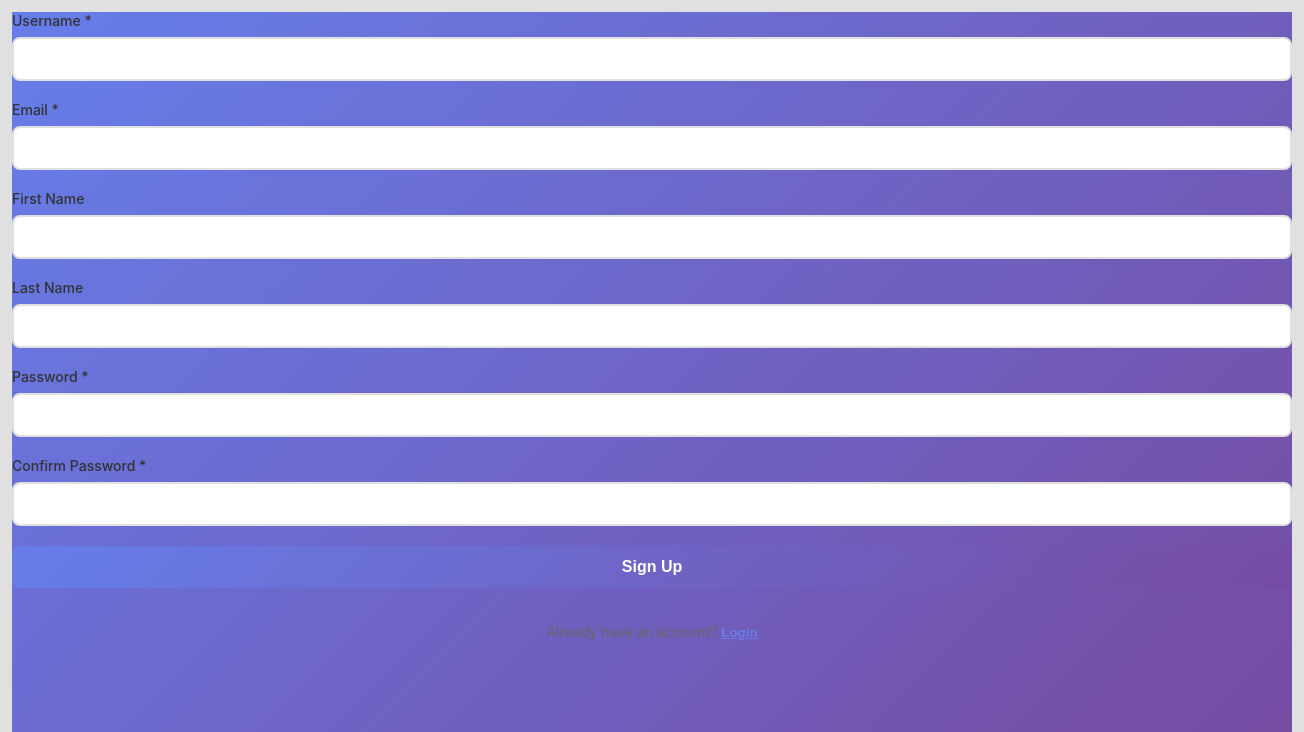
Test: Signup Component › shows loading state during registration
The width and height of the screenshot is (1304, 732).
Type "newuser" into the field labelled "Username *" at [652, 59], box [12, 37, 1292, 81]
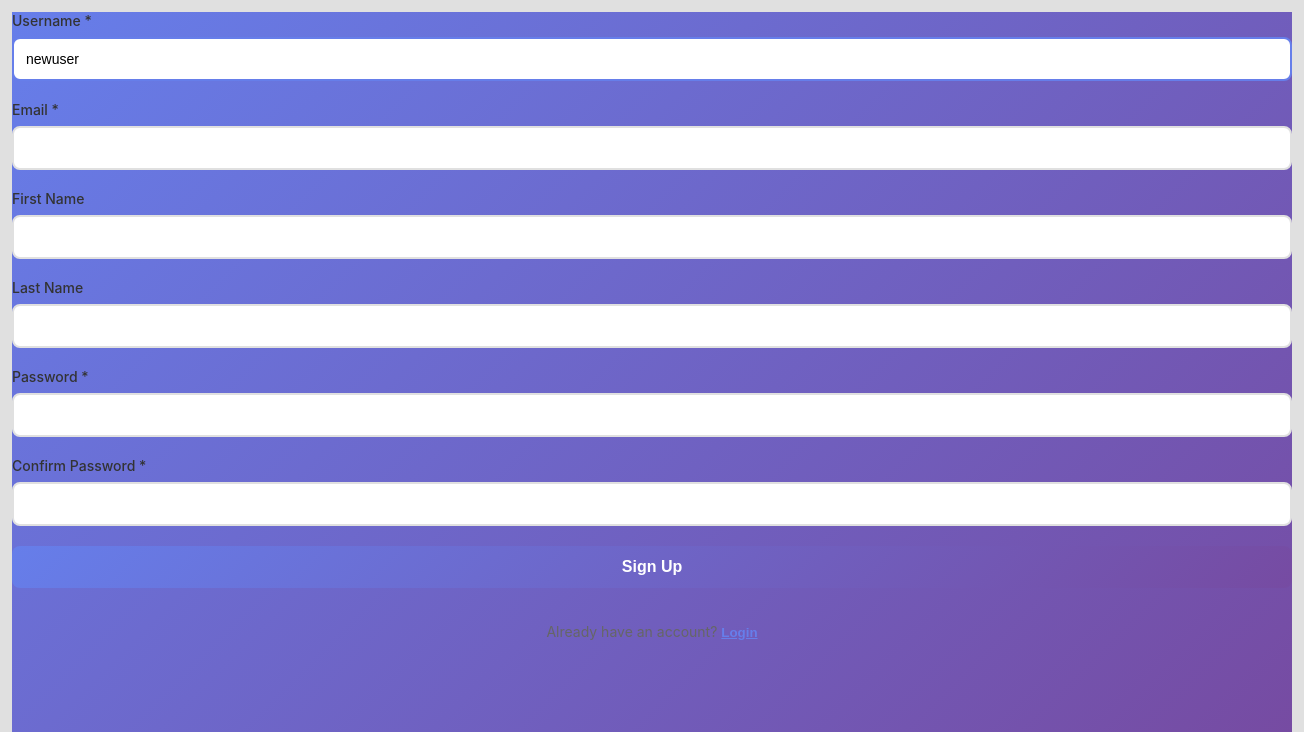
Type "newuser@example.com" into the field labelled "Email *" at [652, 148], box [12, 126, 1292, 170]
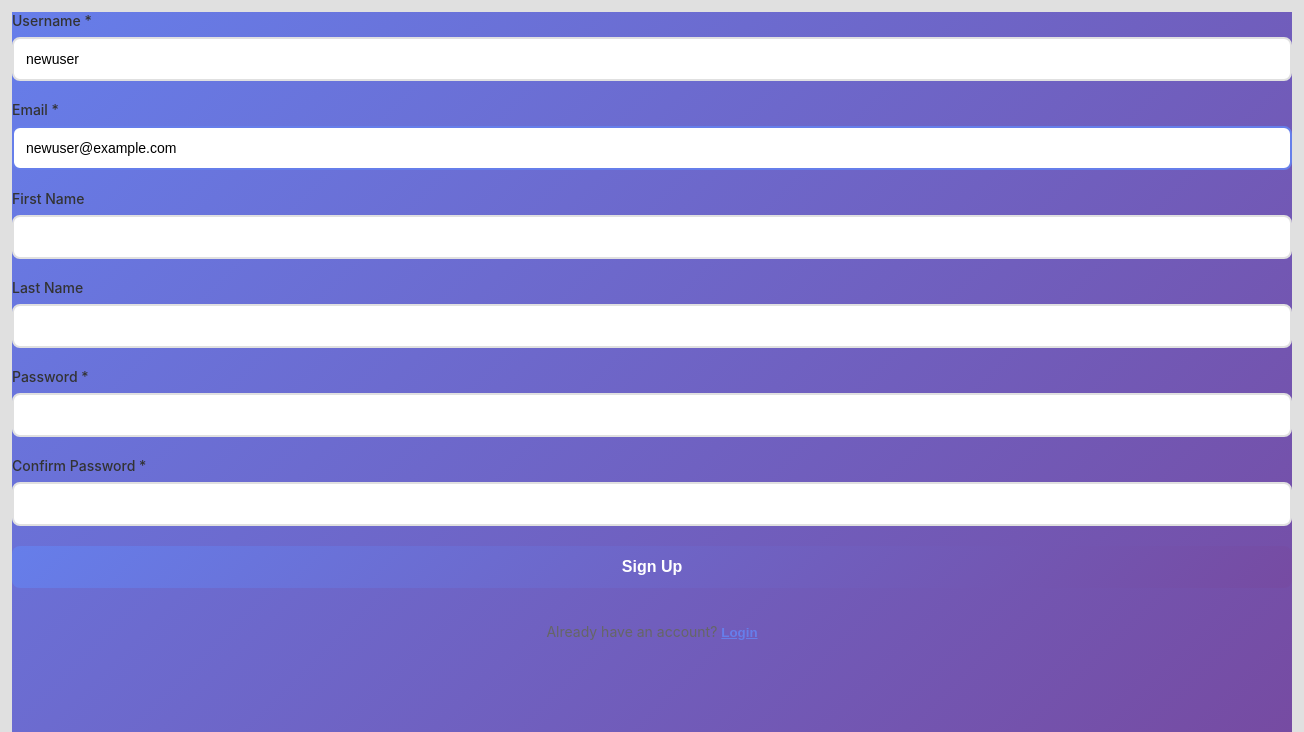
Type "password123" into the password field labelled "Password *" at [652, 415], box [12, 393, 1292, 437]
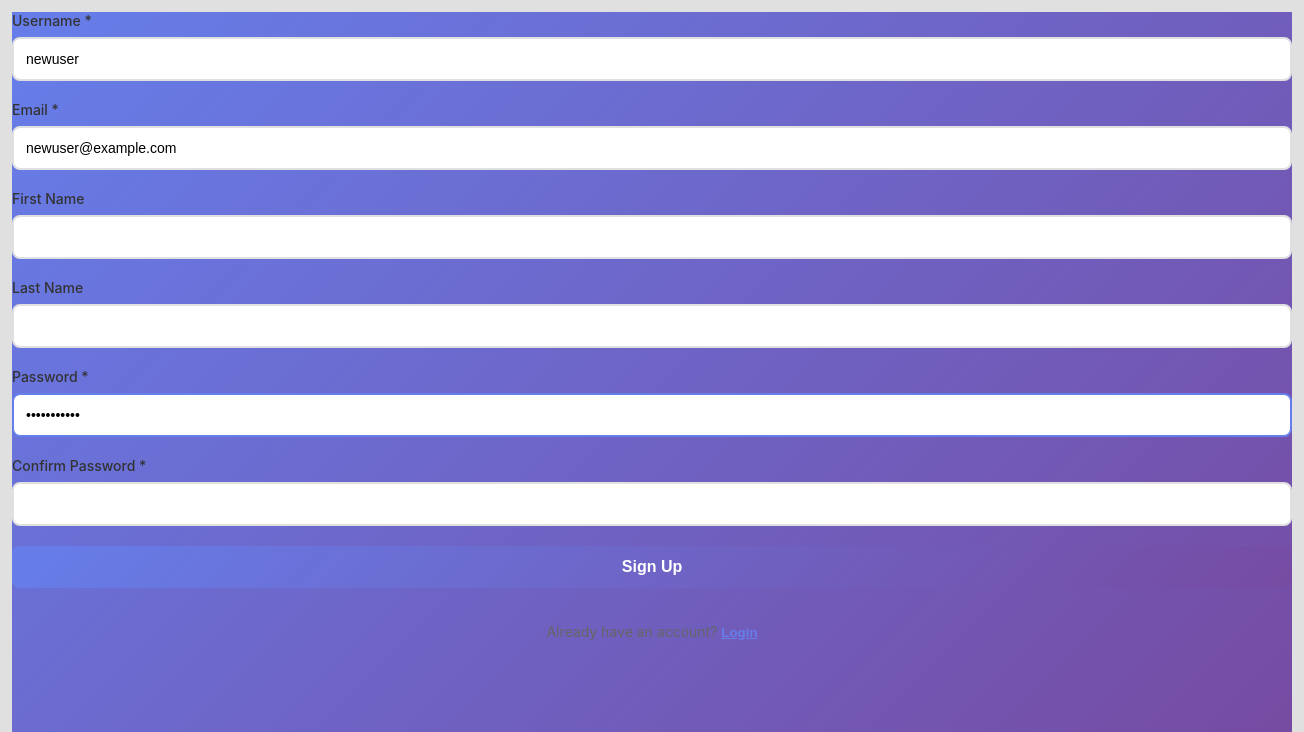
Type "password123" into the password field labelled "Confirm Password *" at [652, 504], box [12, 482, 1292, 526]
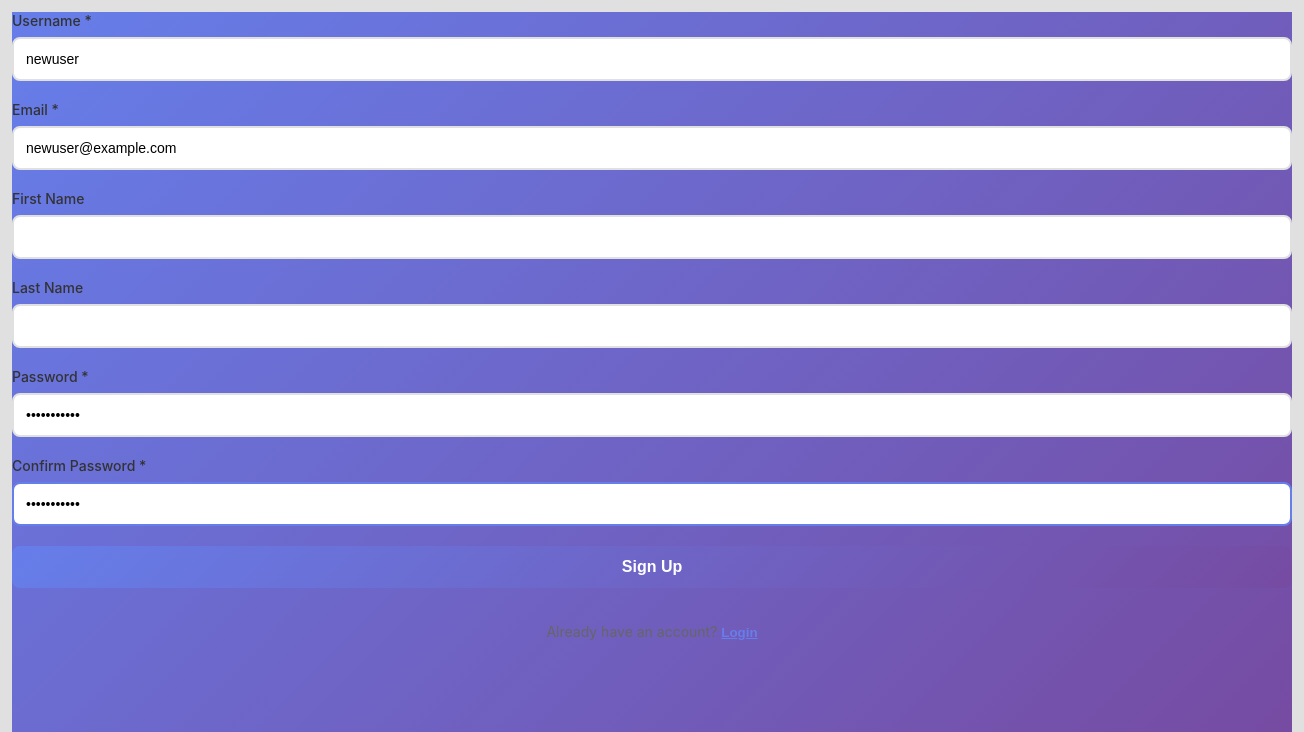
Click the button "Sign Up" at [652, 567], box [12, 546, 1292, 588]
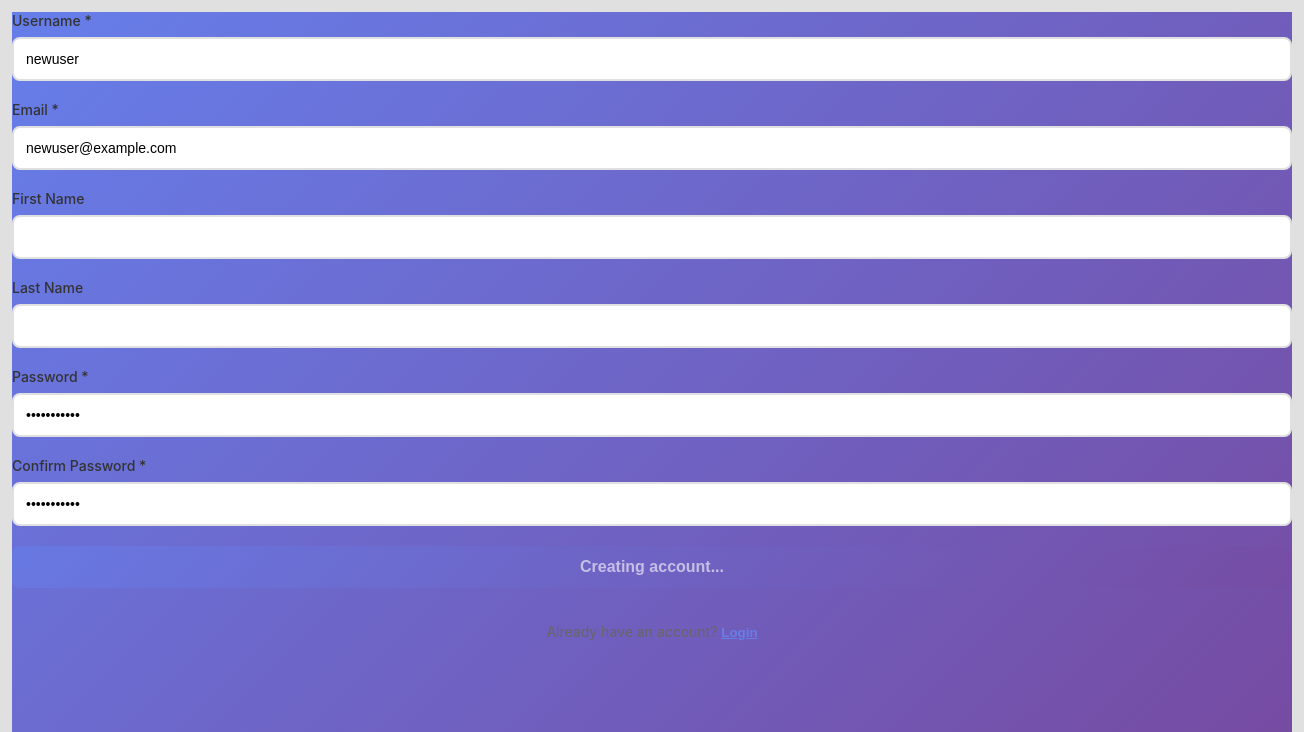
Expected: the button "Creating account..." is disabled, [12, 546, 1292, 588]
